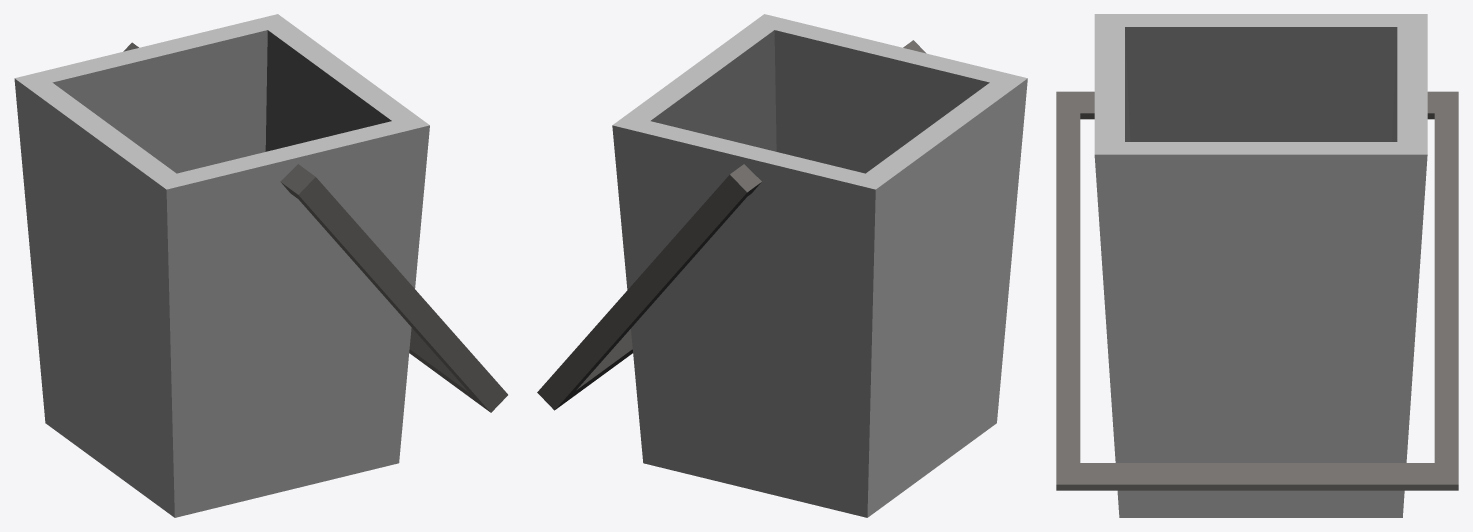
File: SA_Prop_FishingBucket_01.glb
The picture shows the model from 3 angles, left to right: view 1: azimuth 30°, elevation 25°; view 2: azimuth 150°, elevation 25°; view 3: azimuth 270°, elevation 25°; orthographic projection. The views are drawn at different scales.
Visible parts, largest first — view 1: SA_Prop_FishingBucket_01; view 2: SA_Prop_FishingBucket_01; view 3: SA_Prop_FishingBucket_01.
Part boxes in pixels (<box>): SA_Prop_FishingBucket_01: <box>14,14,507,517</box>; SA_Prop_FishingBucket_01: <box>537,14,1027,517</box>; SA_Prop_FishingBucket_01: <box>1056,14,1458,517</box>.
Size of the model in its own units: 0.3225 by 0.3242 by 0.3163.
1 material, 1 textured.
